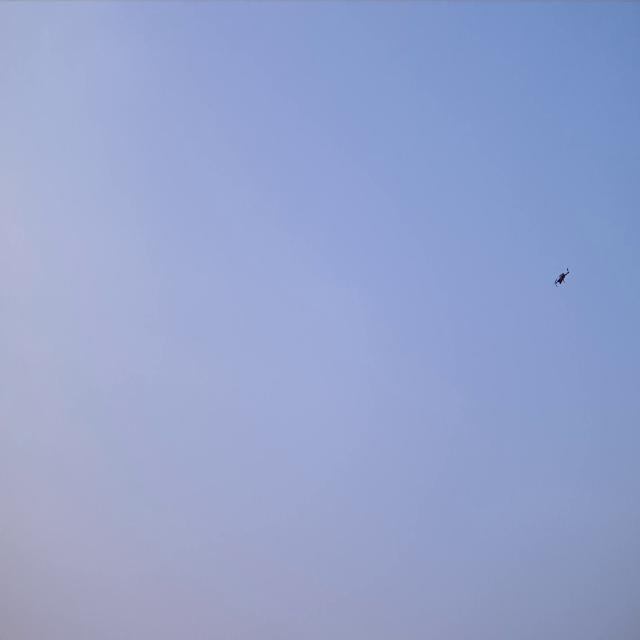UAV: (555, 268, 569, 286)
